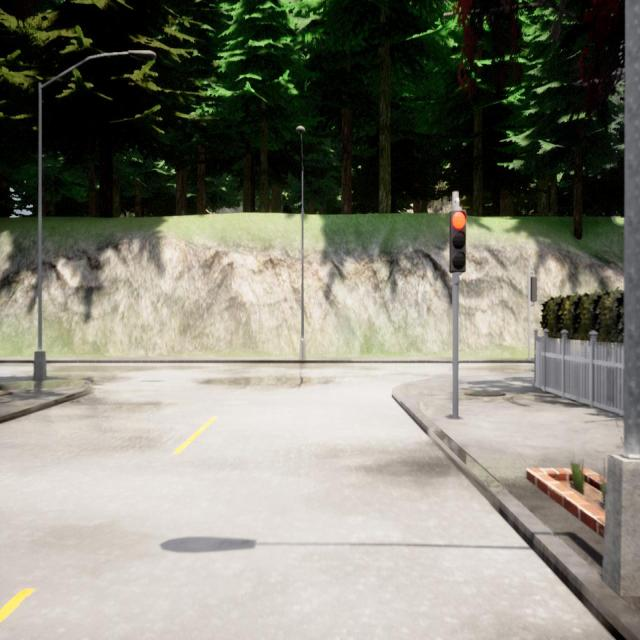traffic_light: (449, 210, 466, 272), (531, 277, 537, 302)
